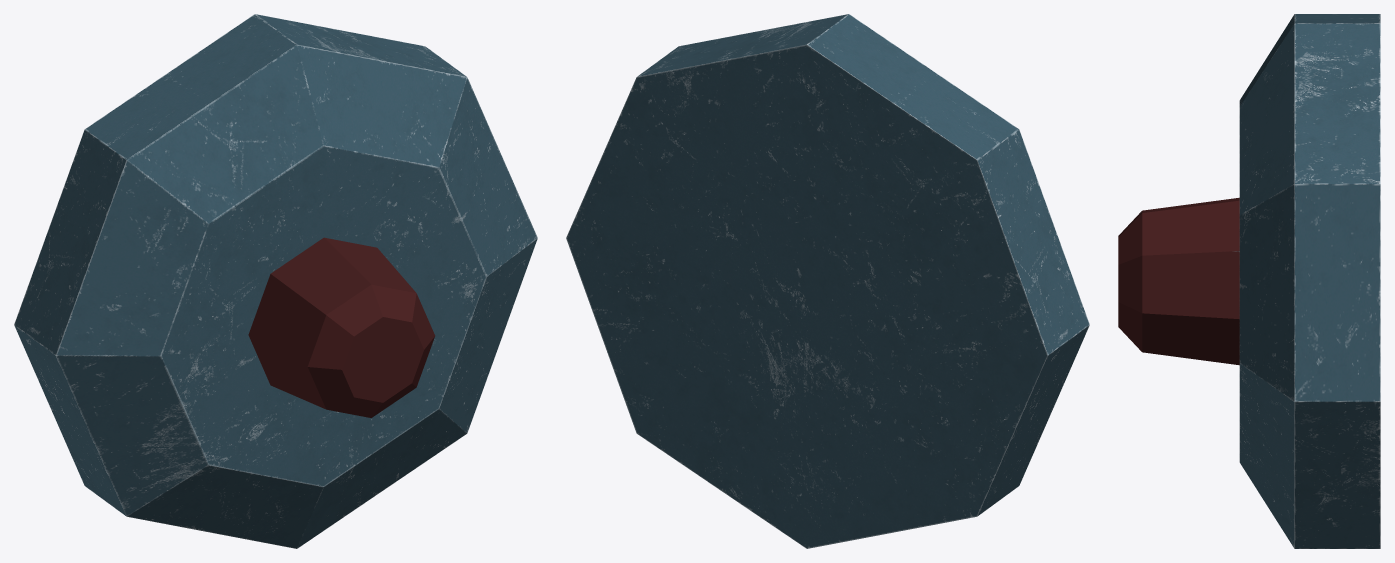
Rendered from DiodaBG.gltf.
3 renders of one model, left to right at view 1: azimuth 30°, elevation 25°; view 2: azimuth 150°, elevation 25°; view 3: azimuth 270°, elevation 25°, orthographic. The views are drawn at different scales.
Visible parts, largest first — view 1: Cylinder.014; view 2: Cylinder.014; view 3: Cylinder.014.
Boxes of the visible parts, <box> form: Cylinder.014: <box>14,14,537,548</box>; Cylinder.014: <box>566,14,1089,548</box>; Cylinder.014: <box>1118,14,1380,548</box>.
Bounding box in the file's own units: 2 × 2 × 0.9212.
Materials: 1 (1 with a texture image).
